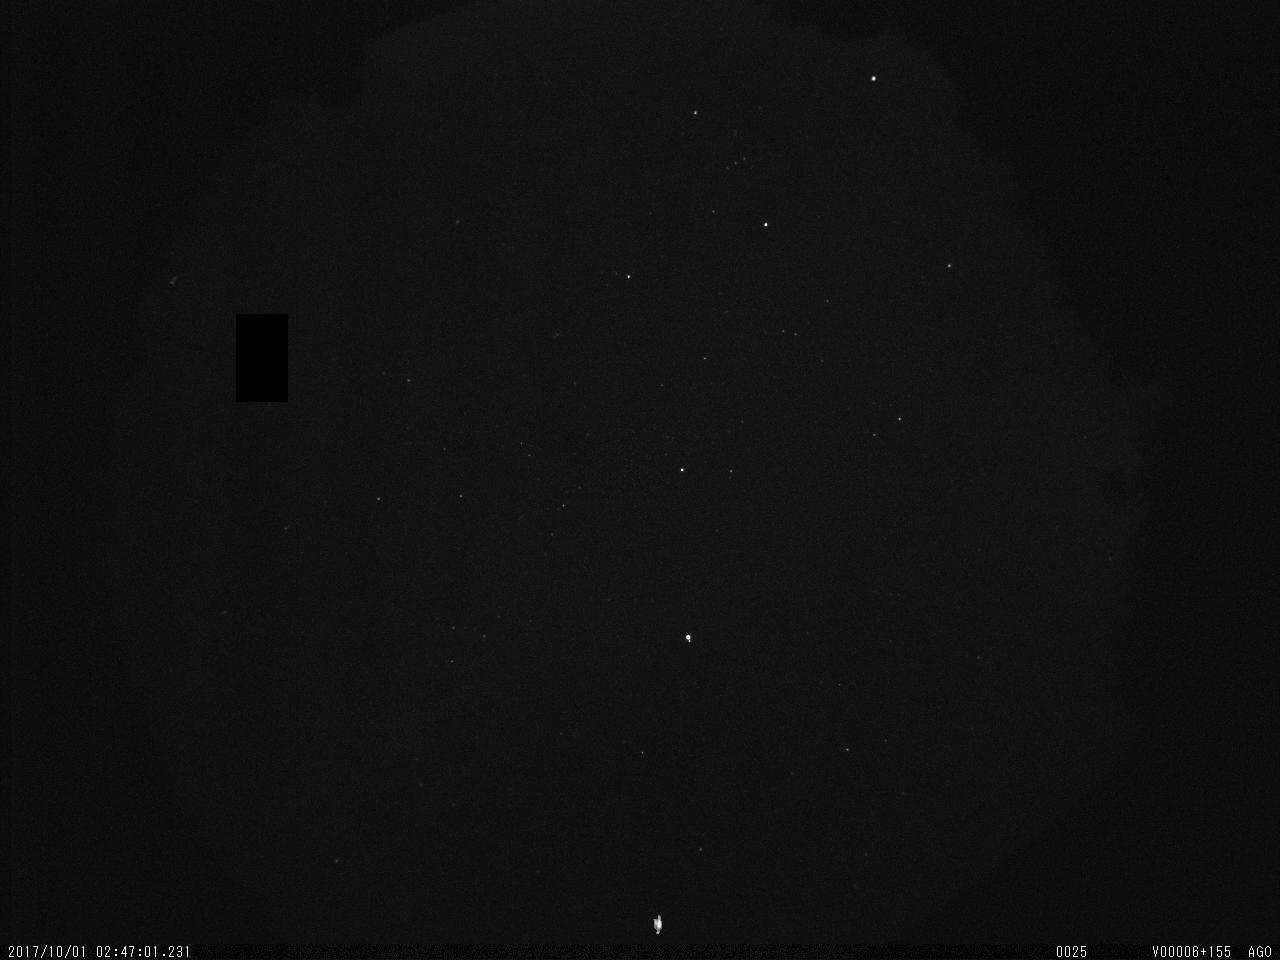TLE: (646, 908, 672, 942)
